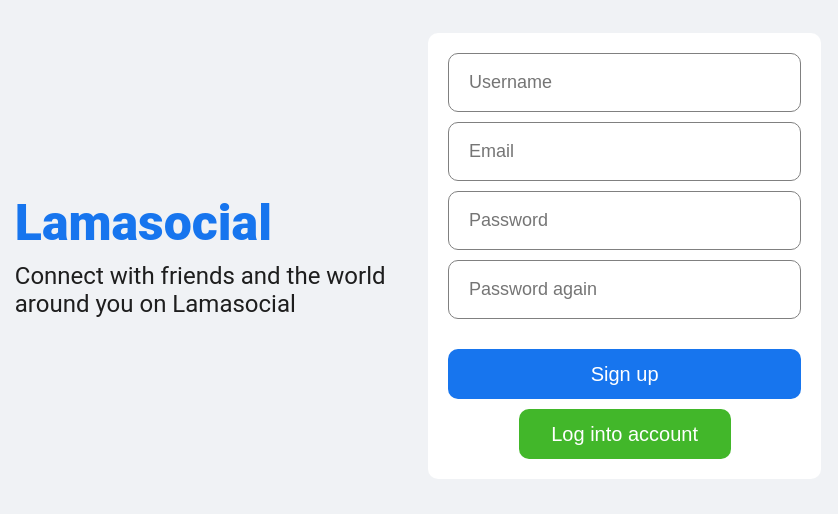
Scenario: Signup › Should show error message when password is too short
Type "123" into the password field with placeholder "Password" at {"x": 625, "y": 220}, box [448,191,801,250]
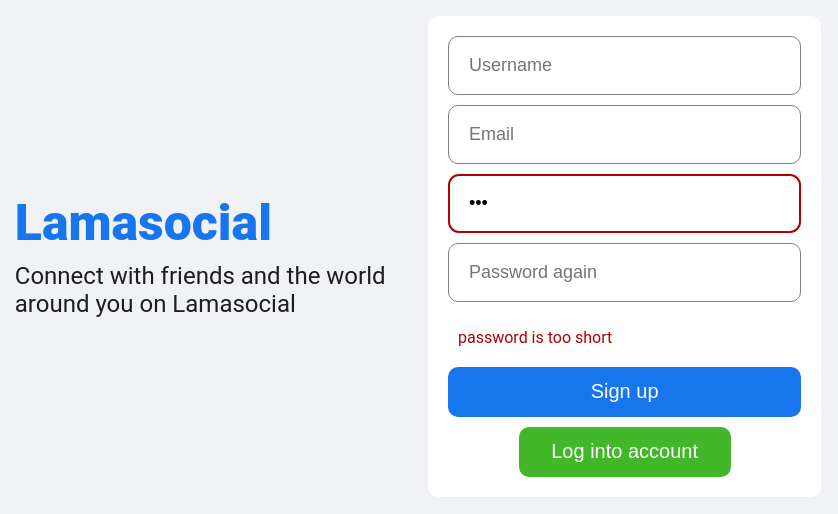
expect the text "password is too short" is shown: met, box [458,328,612,346]
